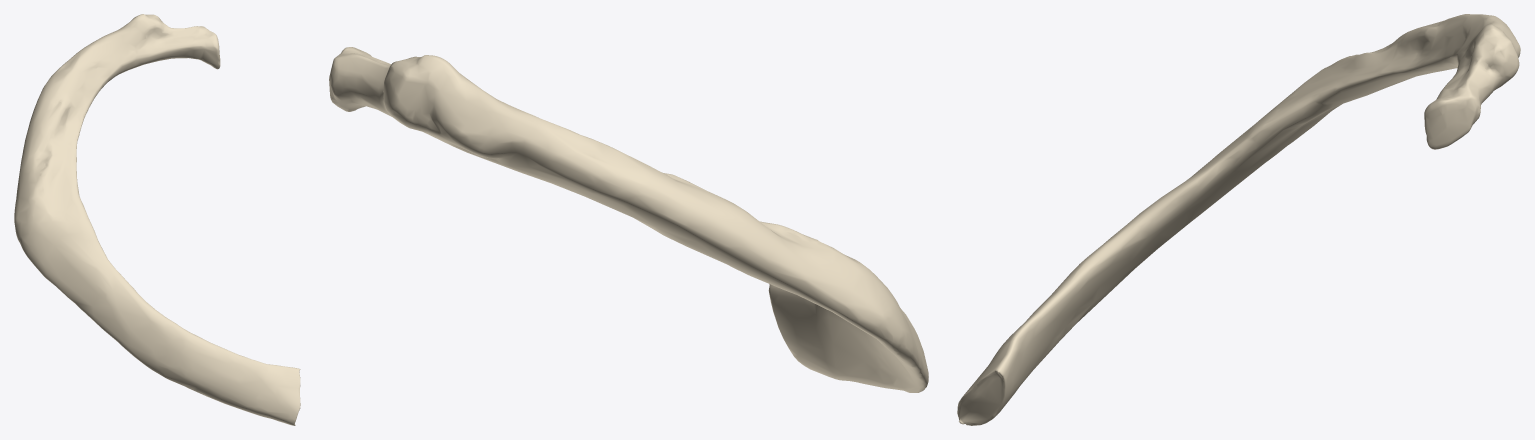
The model's file is second-rib-r.glb.
3 views of the same model, side by side, from view 1: azimuth 30°, elevation 25°; view 2: azimuth 150°, elevation 25°; view 3: azimuth 270°, elevation 25° (orthographic). The views are drawn at different scales.
Parts seen in each view (by area): view 1: Second rib.r; view 2: Second rib.r; view 3: Second rib.r.
Part boxes in pixels (<box>): Second rib.r: <box>14,14,300,425</box>; Second rib.r: <box>329,47,928,392</box>; Second rib.r: <box>957,14,1520,425</box>.
Bounding box in the file's own units: 0.0821 × 0.0913 × 0.112.
